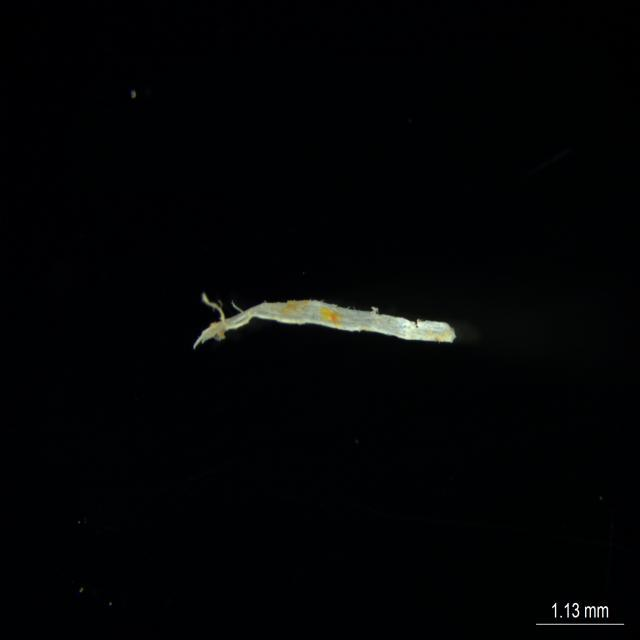fibers: (192, 287, 456, 349)
